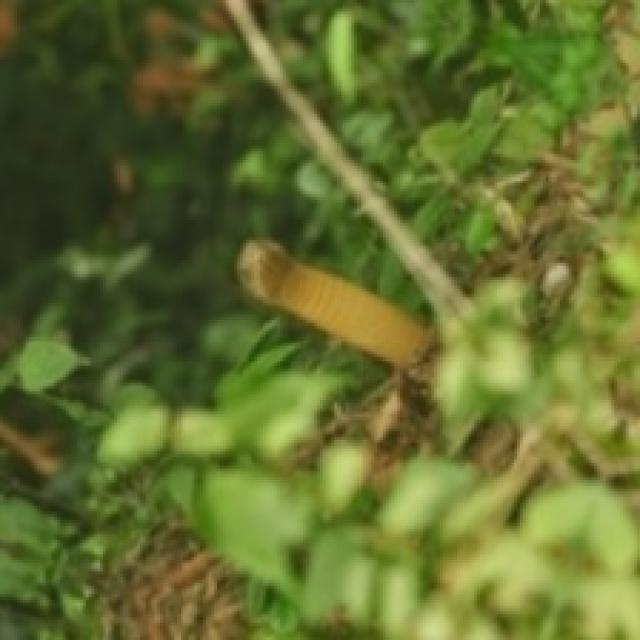king cobra: (237, 240, 429, 366)
